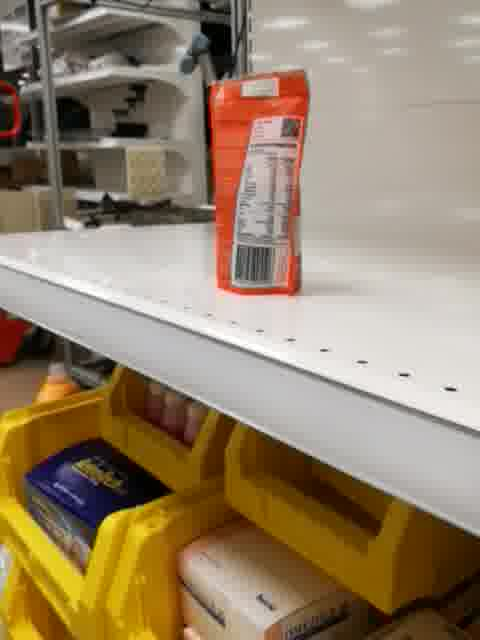whitechia: (205, 69, 312, 297)
